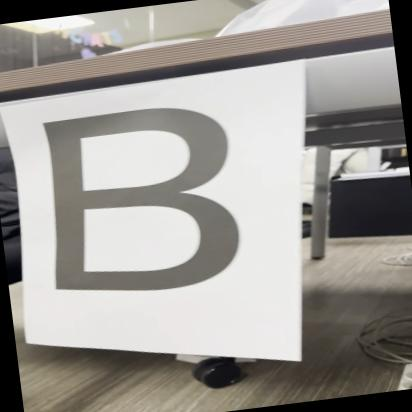seat: (19, 88, 269, 314)
